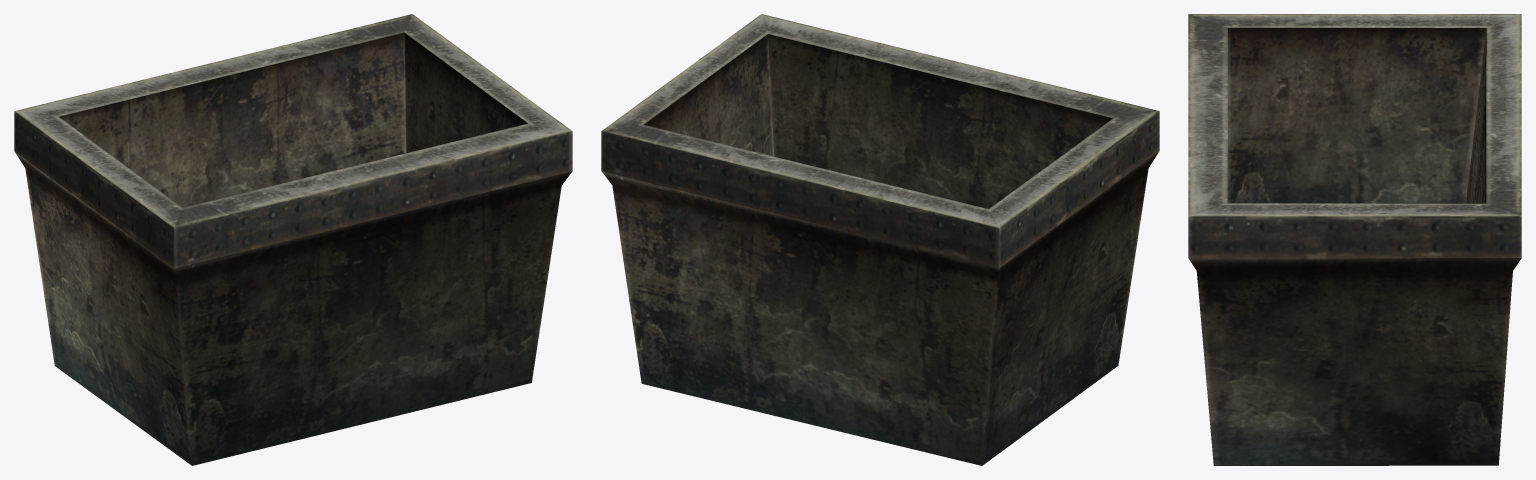
The model's file is fortms_box_smithy00.glb.
3 renders of one model, left to right at view 1: azimuth 30°, elevation 25°; view 2: azimuth 150°, elevation 25°; view 3: azimuth 270°, elevation 25°, orthographic. The views are drawn at different scales.
Visible parts, largest first — view 1: fortms_box_smithy00; view 2: fortms_box_smithy00; view 3: fortms_box_smithy00.
Boxes of the visible parts, x1,y1,x2,y2 form: fortms_box_smithy00: [14, 14, 572, 465]; fortms_box_smithy00: [601, 14, 1159, 465]; fortms_box_smithy00: [1188, 14, 1521, 465].
Bounding box in the file's own units: 1.84 × 1.12 × 1.28.
Materials: 1 (1 with a texture image).
